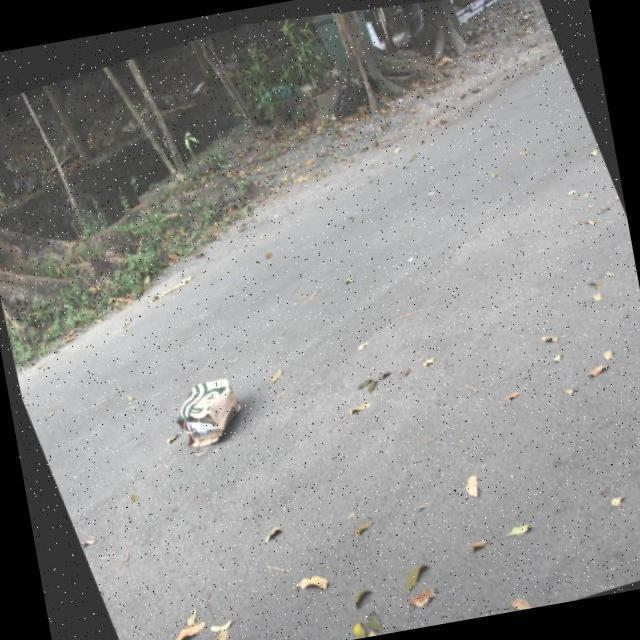Paper_Bag: (158, 367, 252, 462)
